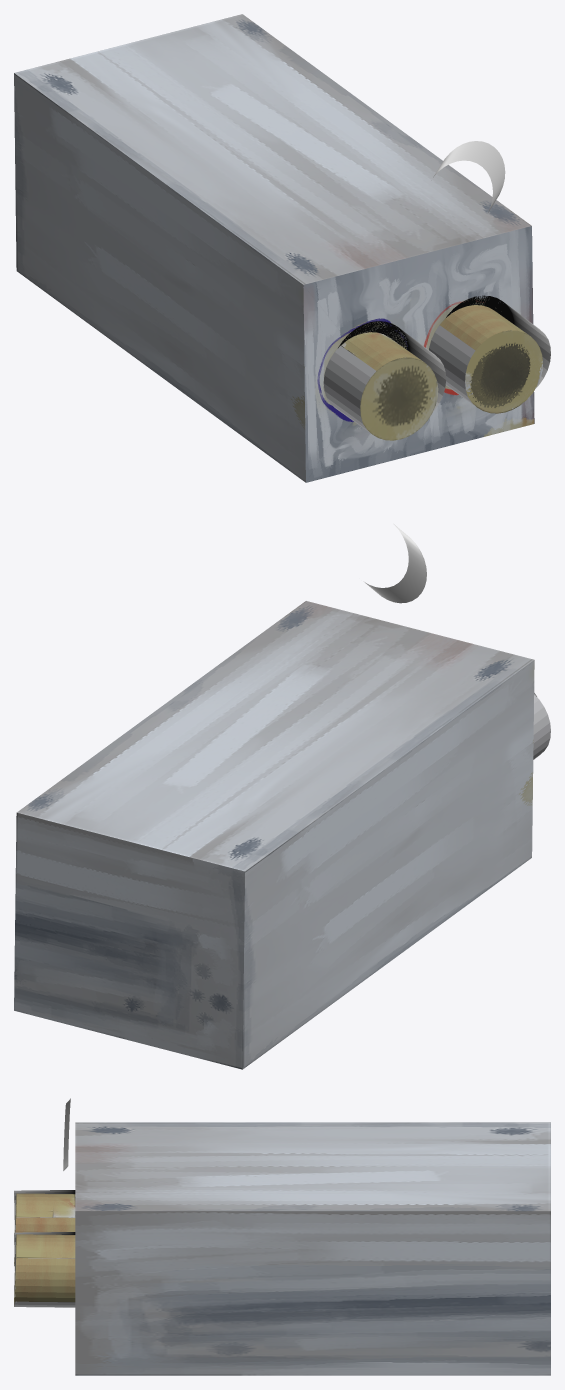
The model's file is battery.glb.
3 renders of one model, top to bottom at view 1: azimuth 30°, elevation 25°; view 2: azimuth 150°, elevation 25°; view 3: azimuth 270°, elevation 25°, orthographic. The views are drawn at different scales.
Visible parts, largest first — view 1: Cube, Circle.001, SurfCircle, Circle; view 2: Cube, SurfCircle; view 3: Cube, SurfCircle.
Boxes of the visible parts, left/top/right/bottom form: Cube: left=14, top=14, right=542, bottom=482; Circle.001: left=338, top=321, right=445, bottom=411; SurfCircle: left=433, top=141, right=505, bottom=212; Circle: left=446, top=295, right=550, bottom=387; Cube: left=14, top=601, right=550, bottom=1069; SurfCircle: left=363, top=524, right=426, bottom=603; Cube: left=14, top=1122, right=550, bottom=1375; SurfCircle: left=63, top=1098, right=70, bottom=1170.
Bounding box in the file's own units: 0.9794 × 1.23 × 2.4.
Materials: 1 (1 with a texture image).
